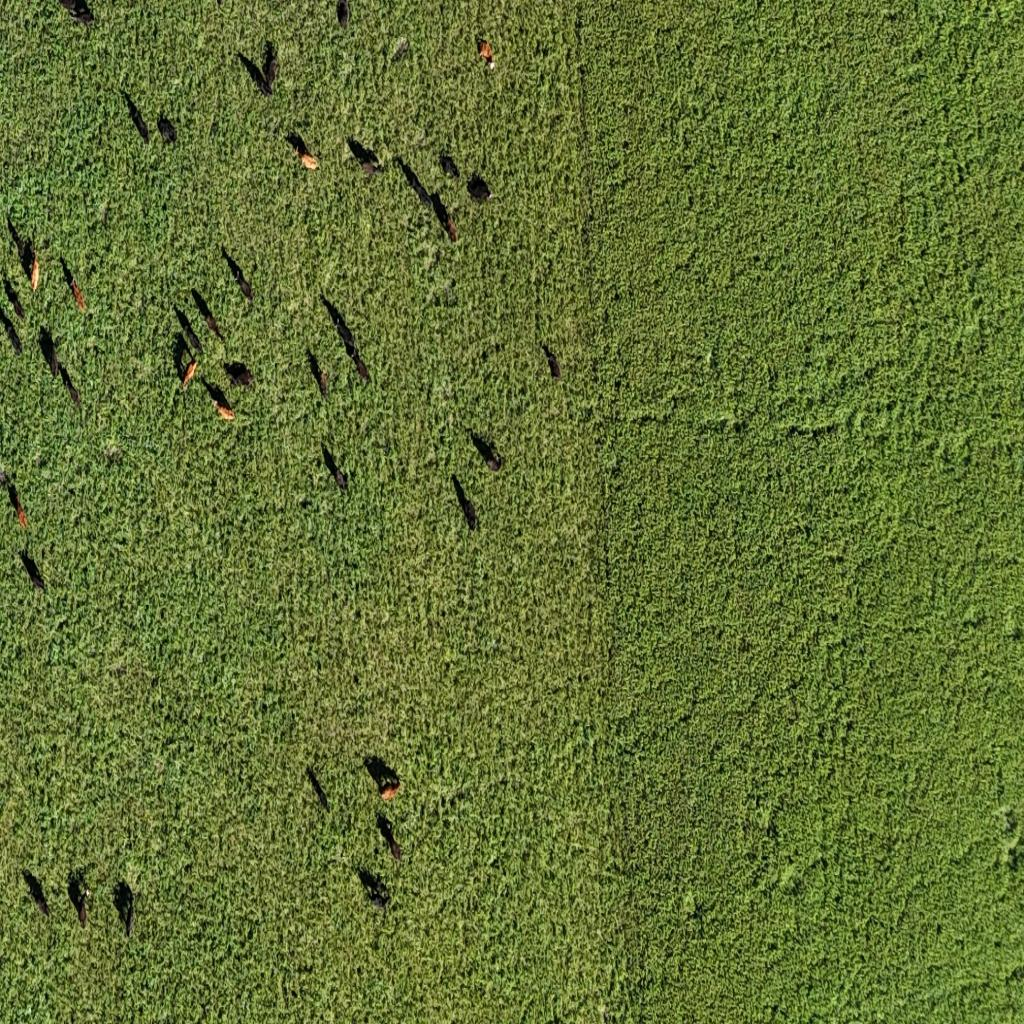cow: (322, 294, 356, 357), (399, 157, 435, 212), (201, 376, 238, 423), (222, 247, 253, 301), (192, 288, 224, 340), (238, 51, 272, 99), (365, 755, 401, 799), (175, 305, 204, 359), (470, 429, 504, 474), (452, 474, 478, 531), (60, 254, 86, 311), (23, 870, 51, 921), (123, 89, 149, 143), (360, 867, 390, 913), (348, 137, 382, 176), (322, 444, 348, 494), (432, 190, 456, 244), (113, 880, 135, 938), (3, 278, 26, 332), (289, 132, 320, 172), (376, 813, 400, 863), (39, 326, 60, 381), (308, 349, 330, 401), (20, 550, 46, 593), (307, 767, 331, 813), (56, 1, 94, 30), (6, 480, 28, 530), (177, 340, 198, 392), (68, 875, 89, 927), (349, 340, 371, 384), (59, 362, 82, 404), (224, 360, 254, 390), (466, 172, 493, 203), (542, 344, 562, 380), (156, 112, 176, 147), (28, 242, 41, 294), (440, 153, 461, 182), (478, 38, 494, 71), (392, 38, 409, 65), (336, 0, 350, 30), (99, 202, 109, 228)
